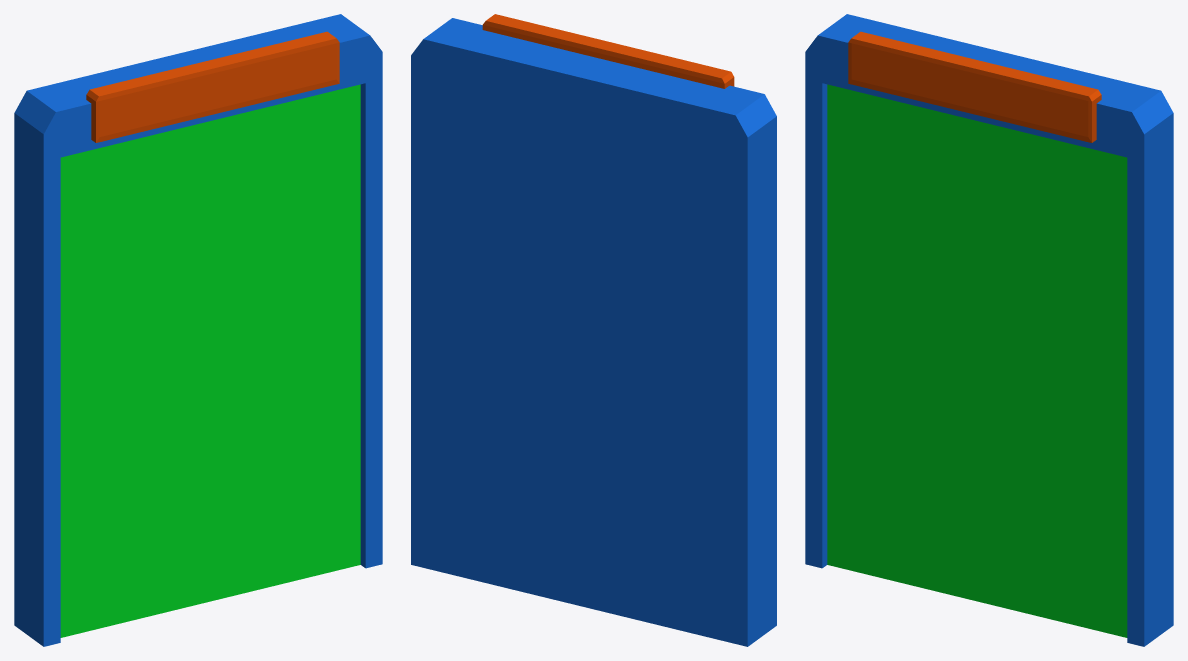
The model's file is DefaultPortal.fbx.
3 views of the same model, side by side, from view 1: azimuth 30°, elevation 25°; view 2: azimuth 150°, elevation 25°; view 3: azimuth 330°, elevation 25° (orthographic).
Parts seen in each view (by area): view 1: Portal; view 2: Portal; view 3: Portal.
Part boxes in pixels (bbox=[...]): Portal: bbox=[14, 14, 382, 646]; Portal: bbox=[411, 14, 776, 646]; Portal: bbox=[805, 14, 1173, 646].
Bounding box in the file's own units: 400 × 611 × 70.
